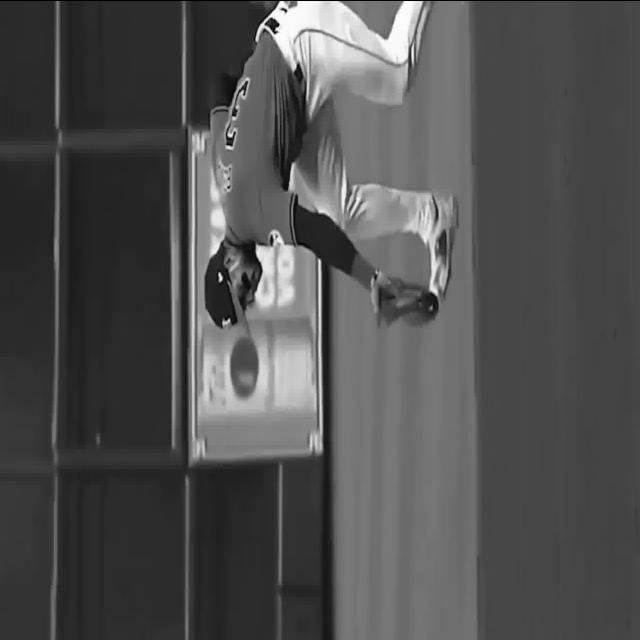baseball_glove: (369, 270, 438, 328)
shoe: (427, 193, 458, 298), (402, 1, 432, 94)
